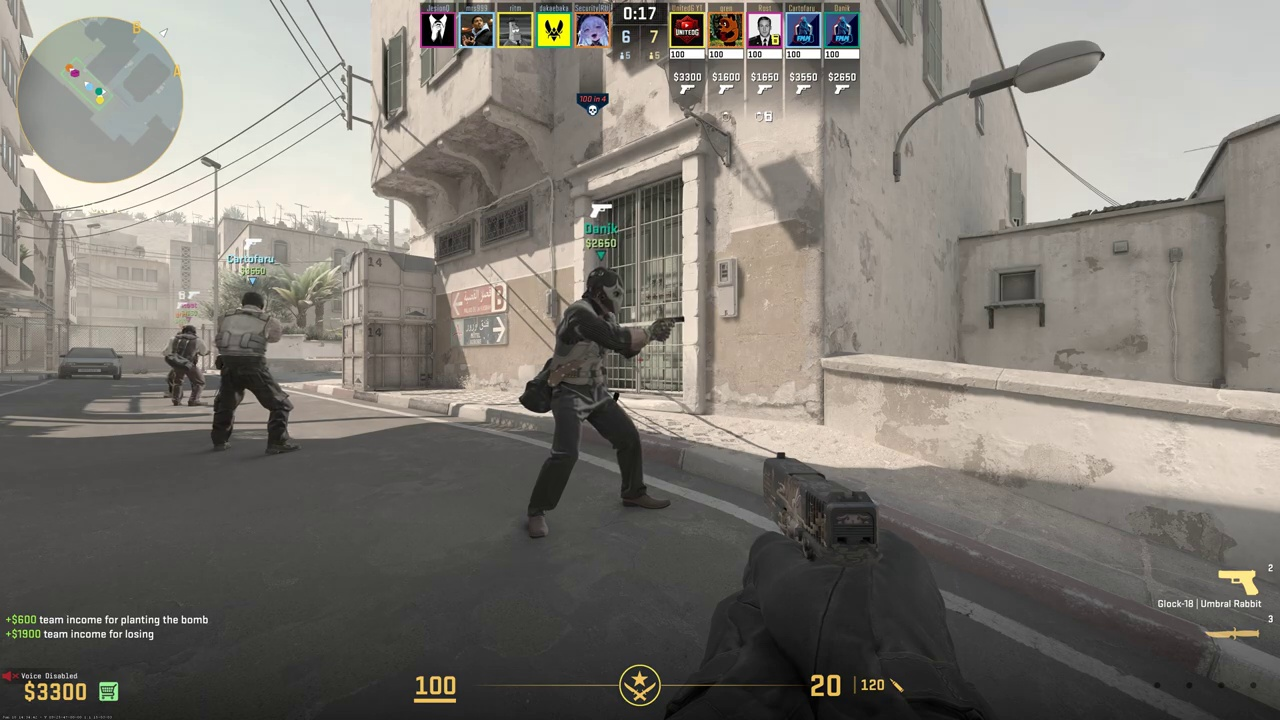Terrorist: (523, 267, 661, 540), (212, 291, 290, 454), (164, 326, 208, 406)
